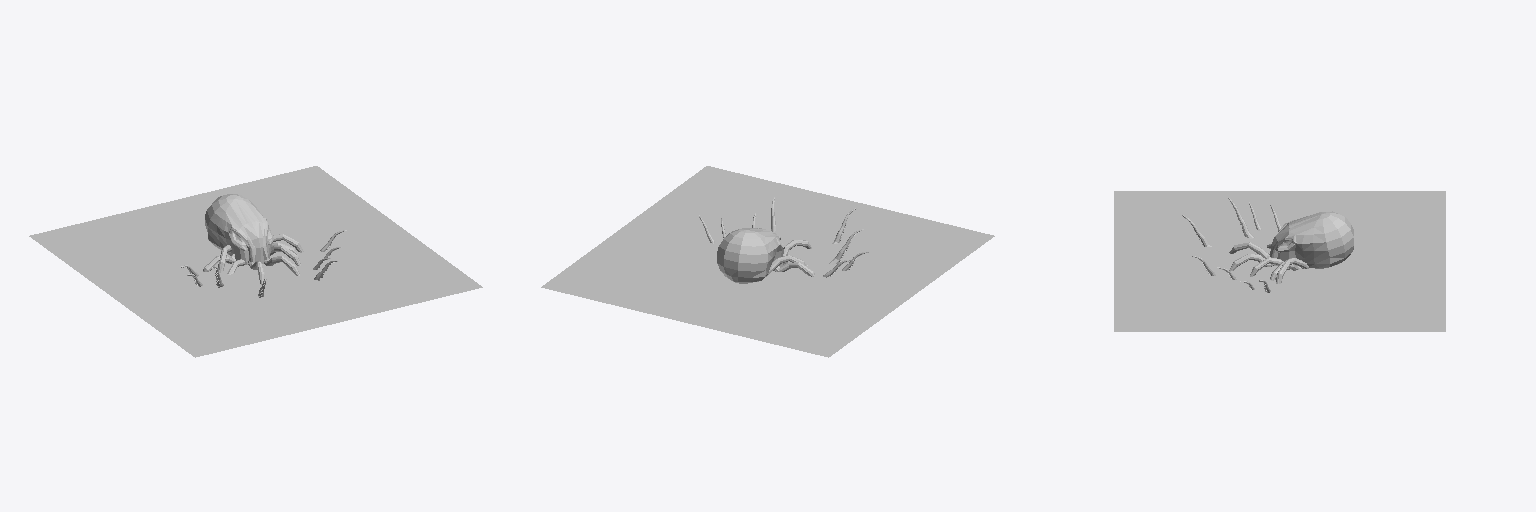
File: kraken.obj
3 views of the same model, side by side, from view 1: azimuth 30°, elevation 25°; view 2: azimuth 150°, elevation 25°; view 3: azimuth 270°, elevation 25° (orthographic).
Parts seen in each view (by area): view 1: pPlane2, pSphere2; view 2: pPlane2, pSphere2, pCylinder2; view 3: pPlane2, pSphere2.
Boxes of the visible parts, <box> form: pPlane2: <box>29,166,482,357</box>; pSphere2: <box>205,194,273,264</box>; pPlane2: <box>541,166,994,357</box>; pSphere2: <box>717,228,785,283</box>; pCylinder2: <box>771,197,863,276</box>; pPlane2: <box>1114,191,1445,331</box>; pSphere2: <box>1269,211,1353,268</box>.
Bounding box in the file's own units: 26.97 × 7.53 × 26.97.